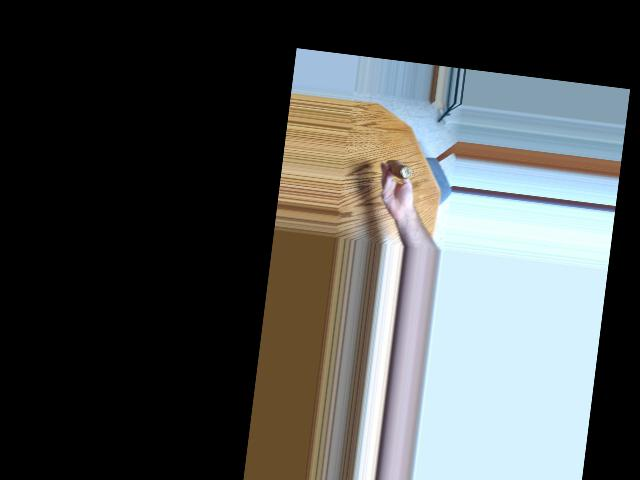sweet_potato: (383, 158, 417, 185)
